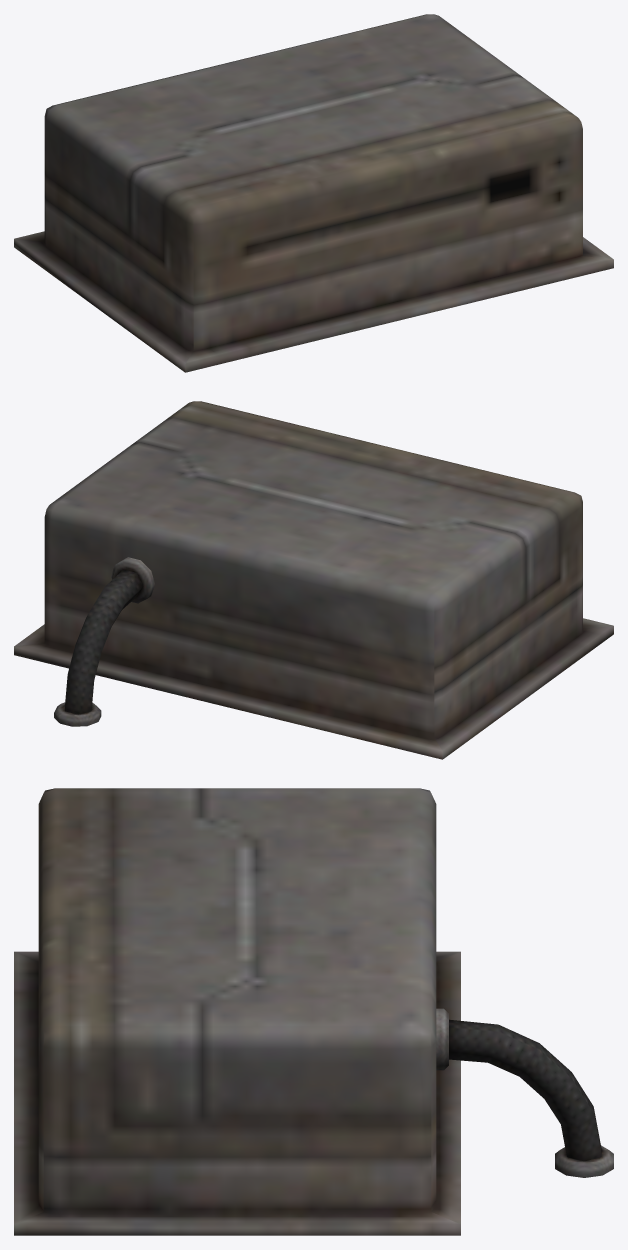
Rendered from computer_parts_diskdrive.dae.
3 views of the same model, one above another, from view 1: azimuth 30°, elevation 25°; view 2: azimuth 150°, elevation 25°; view 3: azimuth 270°, elevation 25° (orthographic). The views are drawn at different scales.
Visible parts, largest first — view 1: disk_drive; view 2: disk_drive; view 3: disk_drive.
Boxes of the visible parts, bbox=[...] form: disk_drive: bbox=[14, 14, 613, 372]; disk_drive: bbox=[14, 401, 613, 759]; disk_drive: bbox=[14, 788, 613, 1235].
Size of the model in its own units: 0.2405 by 0.0787 by 0.2235.
